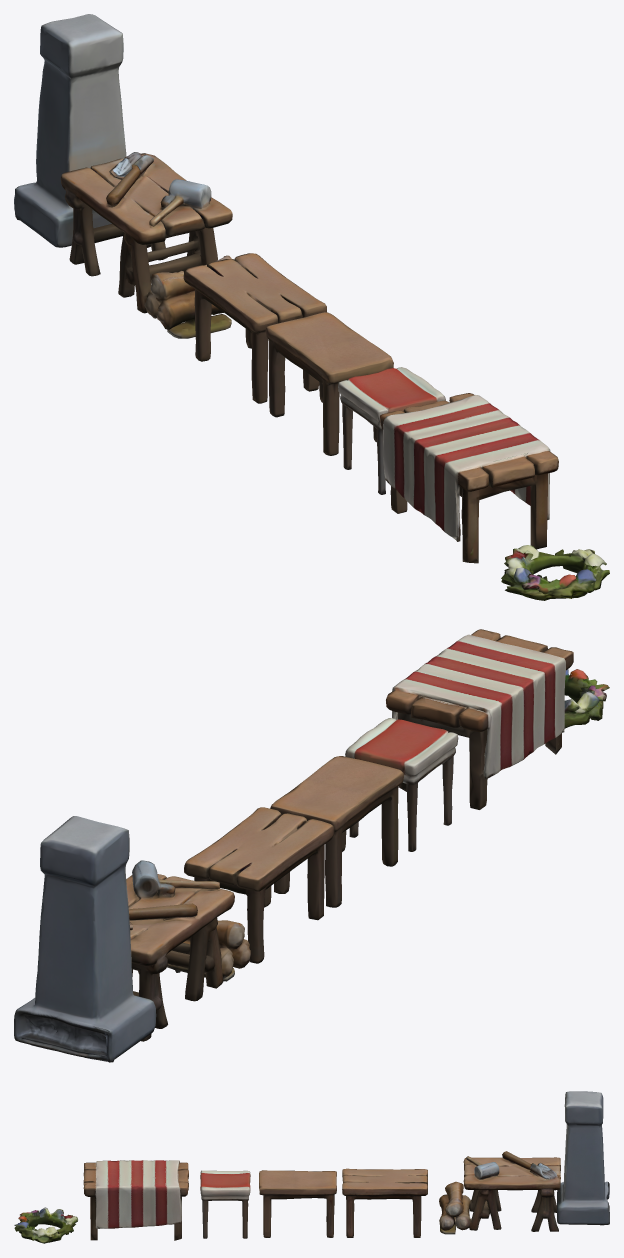
Rendered from bench_market_others.glb.
The picture shows the model from 3 angles, top to bottom: view 1: azimuth 30°, elevation 25°; view 2: azimuth 150°, elevation 25°; view 3: azimuth 270°, elevation 25°; orthographic projection. The views are drawn at different scales.
Visible parts, largest first — view 1: tripo_node_35e45143-0d03-4253-955b-14f0fb802cdb; view 2: tripo_node_35e45143-0d03-4253-955b-14f0fb802cdb; view 3: tripo_node_35e45143-0d03-4253-955b-14f0fb802cdb.
Part boxes in pixels (x1,y1,x2,y2): tripo_node_35e45143-0d03-4253-955b-14f0fb802cdb: (14,14,609,600); tripo_node_35e45143-0d03-4253-955b-14f0fb802cdb: (14,629,609,1062); tripo_node_35e45143-0d03-4253-955b-14f0fb802cdb: (14,1091,609,1243).
Size of the model in its own units: 0.1178 by 0.2394 by 0.9804.
1 material, 1 textured.
